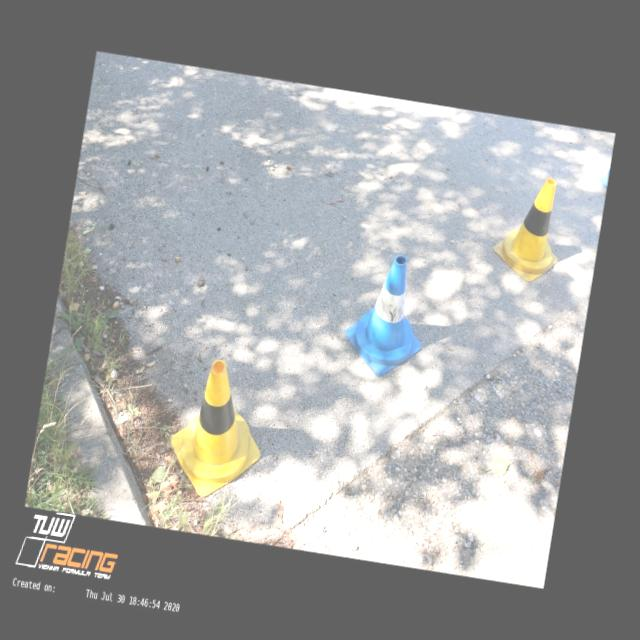blue_cone: (338, 249, 436, 383)
yellow_cone: (162, 354, 276, 506), (488, 170, 570, 285)
